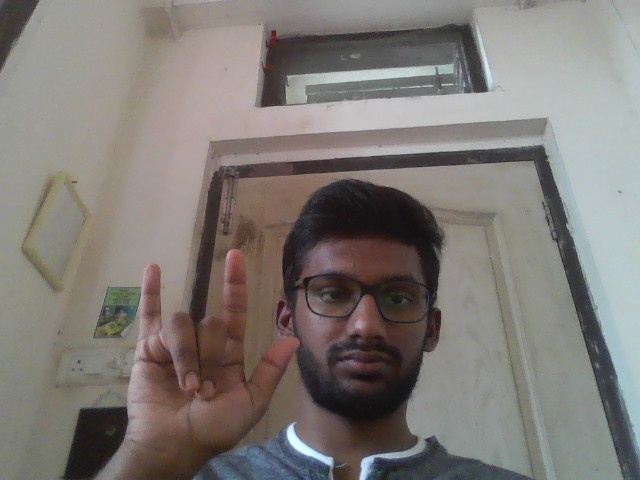I Love You: (116, 242, 304, 454)
